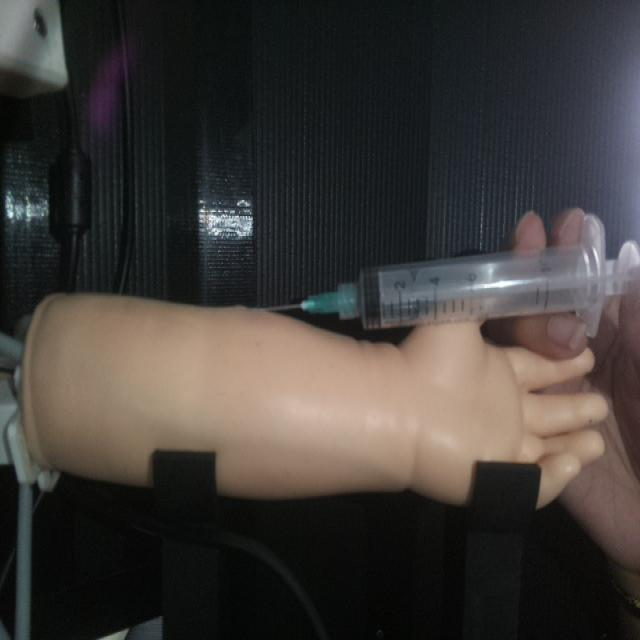Outside: (265, 214, 639, 338)
